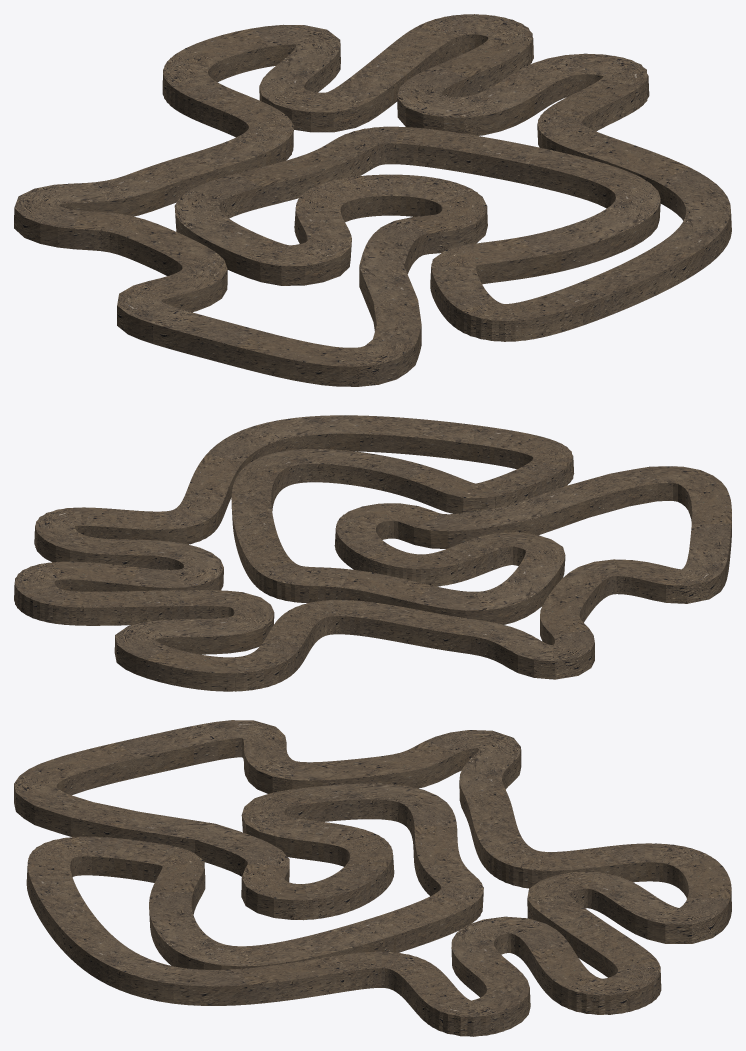
File: layer-loop_09.fbx
3 views of the same model, one above another, from view 1: azimuth 30°, elevation 25°; view 2: azimuth 150°, elevation 25°; view 3: azimuth 270°, elevation 25° (orthographic). The views are drawn at different scales.
Visible parts, largest first — view 1: New LL Mesh; view 2: New LL Mesh; view 3: New LL Mesh.
Part boxes in pixels (bbox=[...]): New LL Mesh: bbox=[14, 14, 731, 386]; New LL Mesh: bbox=[14, 415, 731, 691]; New LL Mesh: bbox=[14, 720, 731, 1036].
Size of the model in its own units: 6606 by 236 by 6724.
Materials: 1 (1 with a texture image).
